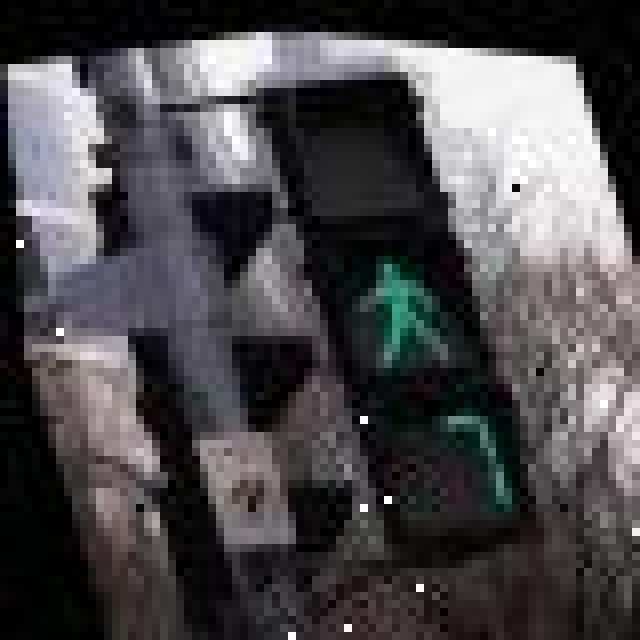greenlight: (256, 48, 504, 400)
